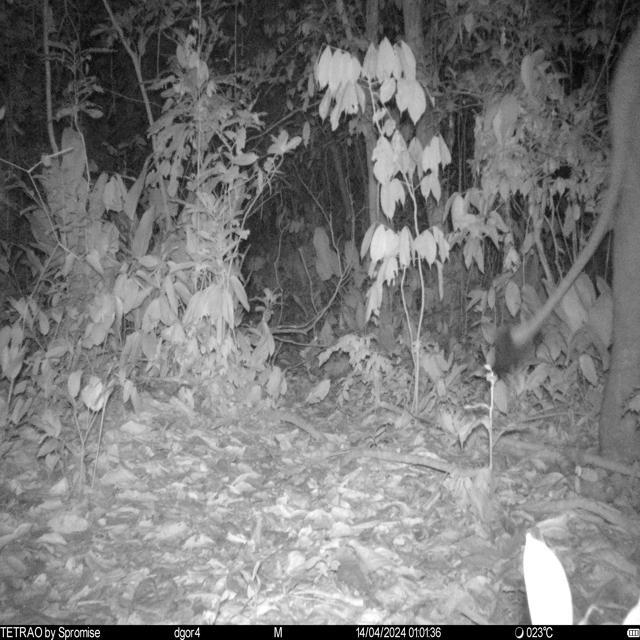elephant: (495, 31, 640, 460)
